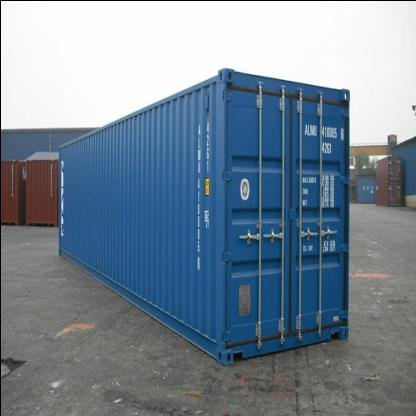Damage: (224, 76, 258, 94), (321, 93, 345, 111)
